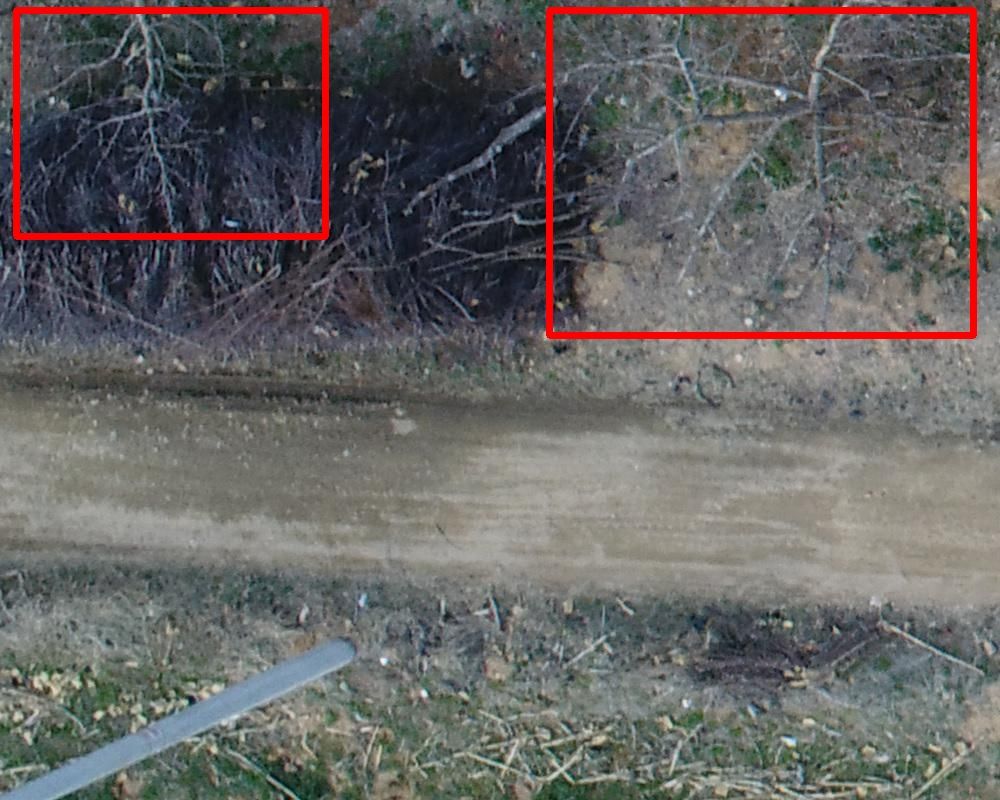apple: (549, 10, 973, 335), (16, 10, 325, 236)
